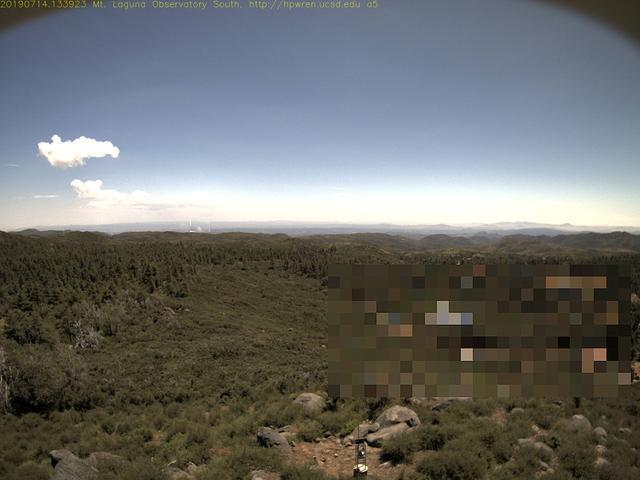smoke: (192, 218, 212, 234)
